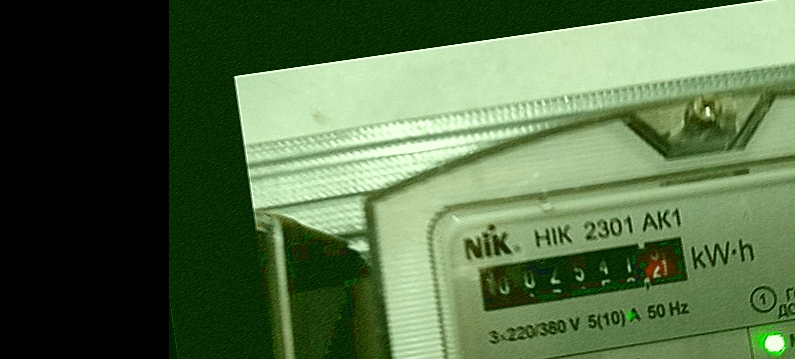0: (493, 269, 514, 297), (520, 263, 538, 291)
1: (619, 247, 636, 275)
2: (544, 259, 563, 286)
4: (595, 251, 611, 276)
5: (569, 254, 590, 284)
6: (648, 259, 665, 279)
screen: (464, 221, 705, 324)
